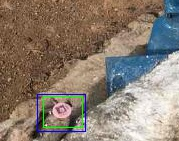text: (43, 96, 82, 127)
